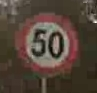limite 50: (17, 13, 79, 77)
